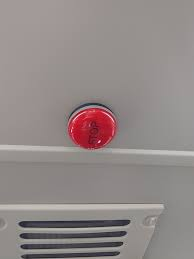bell: (66, 102, 118, 150)
